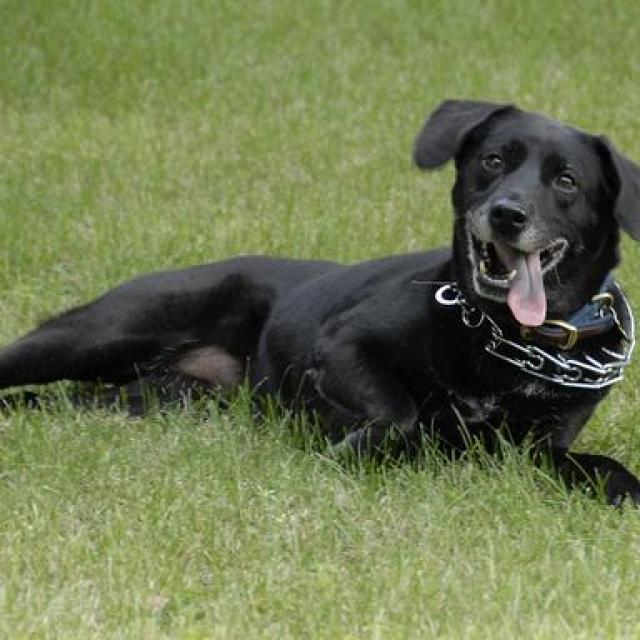happy: (18, 88, 640, 536)
